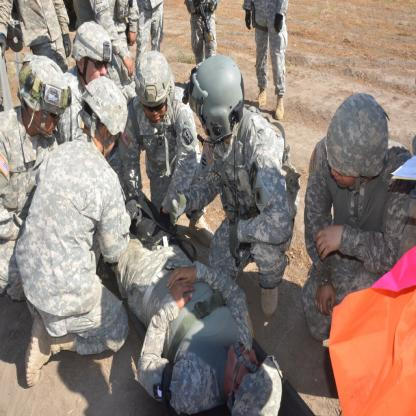Helmet: (325, 86, 389, 195), (16, 52, 71, 138), (188, 56, 242, 143), (80, 73, 128, 156), (230, 343, 283, 416), (136, 46, 174, 130), (71, 21, 112, 84)
